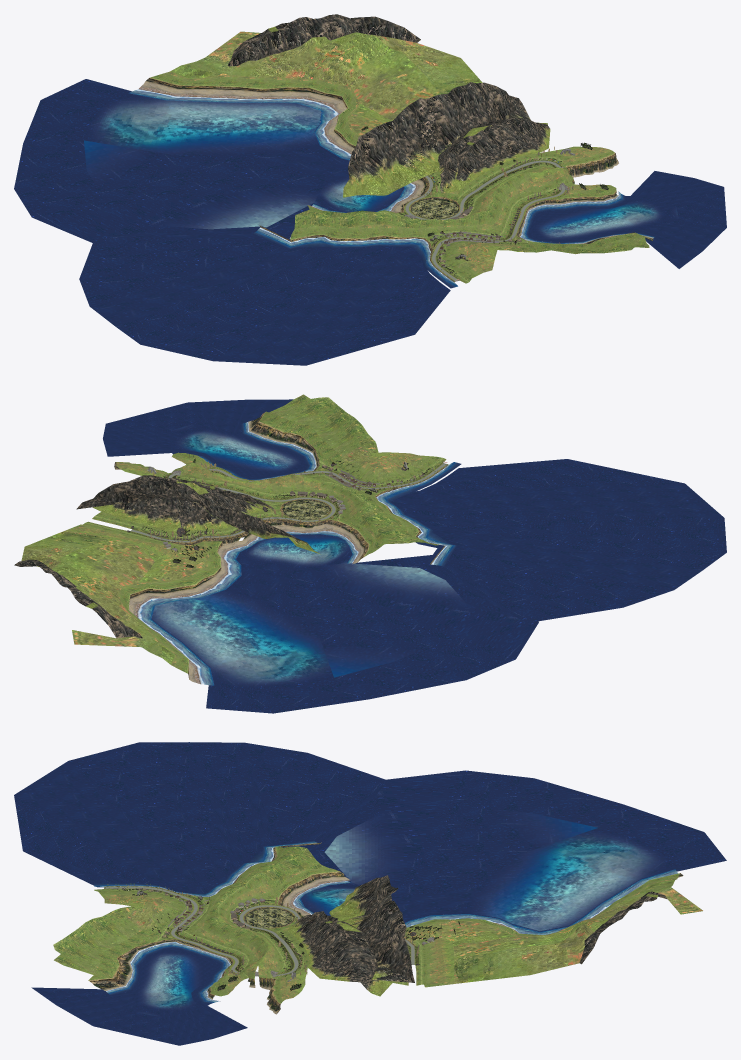
File: stage-east.glb
The picture shows the model from 3 angles, top to bottom: view 1: azimuth 30°, elevation 25°; view 2: azimuth 150°, elevation 25°; view 3: azimuth 270°, elevation 25°; orthographic projection. The views are drawn at different scales.
Parts seen in each view (by area): view 1: part 6 chunk -4,-3, part 6 chunk -3,-9, part 6 chunk -2,-9, part 1 chunk 2,-6, part 1 chunk 2,-12, part 6 chunk 5,-1, part 1 chunk 3,-8, part 1 chunk 3,-6, part 1 chunk 3,-12, part 1 chunk 2,-1, part 6 chunk 4,-2, part 1 chunk 0,-10 (+13 smaller); view 2: part 6 chunk -4,-3, part 6 chunk -3,-9, part 6 chunk -2,-9, part 6 chunk 5,-1, part 1 chunk 3,-8, part 1 chunk 2,-1, part 1 chunk 2,-12, part 1 chunk 3,-6, part 1 chunk 2,-6, part 6 chunk 4,-2, part 1 chunk 1,-4, part 6 chunk 0,-9 (+11 smaller); view 3: part 6 chunk -4,-3, part 6 chunk -3,-9, part 6 chunk -2,-9, part 6 chunk 5,-1, part 1 chunk 3,-8, part 1 chunk 2,-1, part 1 chunk 2,-6, part 1 chunk 3,-6, part 6 chunk 4,-2, part 1 chunk 2,-12, part 1 chunk 1,-4, part 1 chunk 3,-3 (+15 smaller).
Part boxes in pixels (<box>): part 6 chunk -4,-3: <box>79,226,450,365</box>; part 6 chunk -3,-9: <box>14,79,404,242</box>; part 6 chunk -2,-9: <box>84,98,403,229</box>; part 1 chunk 2,-6: <box>343,82,530,197</box>; part 1 chunk 2,-12: <box>150,31,459,96</box>; part 6 chunk 5,-1: <box>532,171,726,267</box>; part 1 chunk 3,-8: <box>334,52,482,145</box>; part 1 chunk 3,-6: <box>438,117,550,188</box>; part 1 chunk 3,-12: <box>227,14,420,66</box>; part 1 chunk 2,-1: <box>441,233,650,281</box>; part 6 chunk 4,-2: <box>525,194,677,243</box>; part 1 chunk 0,-10: <box>139,77,355,153</box>; part 6 chunk -4,-3: <box>392,459,726,622</box>; part 6 chunk -3,-9: <box>151,534,538,713</box>; part 6 chunk -2,-9: <box>152,534,462,684</box>; part 6 chunk 5,-1: <box>103,399,302,476</box>; part 1 chunk 3,-8: <box>25,524,221,594</box>; part 1 chunk 2,-1: <box>259,394,442,484</box>; part 1 chunk 2,-12: <box>21,547,188,673</box>; part 1 chunk 3,-6: <box>92,475,263,533</box>; part 1 chunk 2,-6: <box>76,478,320,554</box>; part 6 chunk 4,-2: <box>175,423,311,479</box>; part 1 chunk 1,-4: <box>259,474,374,520</box>; part 6 chunk 0,-9: <box>137,531,358,685</box>; part 6 chunk -4,-3: <box>14,742,389,892</box>; part 6 chunk -3,-9: <box>301,770,726,931</box>; part 6 chunk -2,-9: <box>301,812,660,931</box>; part 6 chunk 5,-1: <box>34,950,247,1045</box>; part 1 chunk 3,-8: <box>404,918,554,987</box>; part 1 chunk 2,-1: <box>53,890,187,980</box>; part 1 chunk 2,-6: <box>329,875,414,982</box>; part 1 chunk 3,-6: <box>288,921,393,996</box>; part 6 chunk 4,-2: <box>108,945,224,1015</box>; part 1 chunk 2,-12: <box>531,873,702,974</box>; part 1 chunk 1,-4: <box>211,872,296,936</box>; part 1 chunk 3,-3: <box>179,924,284,978</box>.
Size of the model in its own units: 4625 by 527 by 4647.
108 materials, 105 textured.
